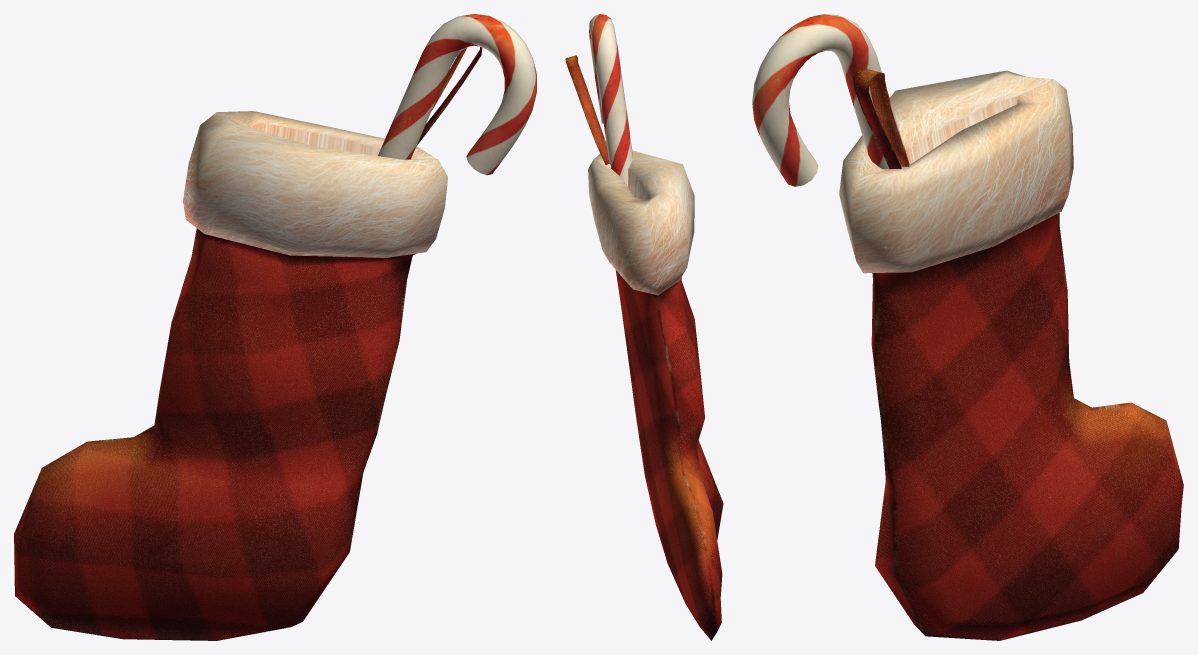
The model's file is christmas_stocking.glb.
3 views of the same model, side by side, from view 1: azimuth 30°, elevation 25°; view 2: azimuth 150°, elevation 25°; view 3: azimuth 270°, elevation 25° (orthographic). The views are drawn at different scales.
Visible parts, largest first — view 1: Cube; view 2: Cube; view 3: Cube.
Part boxes in pixels (x1=…): Cube: x1=14, y1=14, x2=536, y2=640; Cube: x1=565, y1=14, x2=723, y2=640; Cube: x1=752, y1=14, x2=1183, y2=640.
Bounding box in the file's own units: 0.567 × 1.03 × 0.5436.
1 material, 1 textured.
